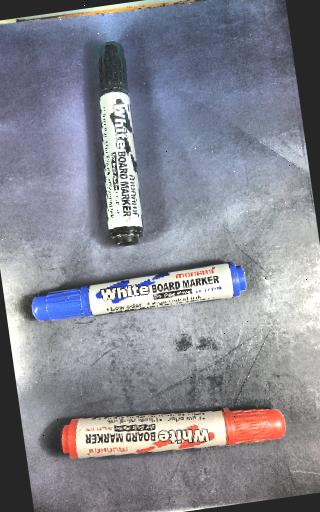marcador azul: (32, 261, 246, 321)
marcador negro: (99, 41, 143, 245)
marcador rojo: (62, 408, 285, 458)
